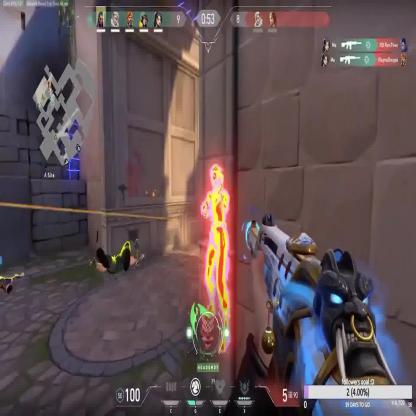enemy: (200, 162, 232, 356)
enemy_head: (209, 165, 225, 192)
